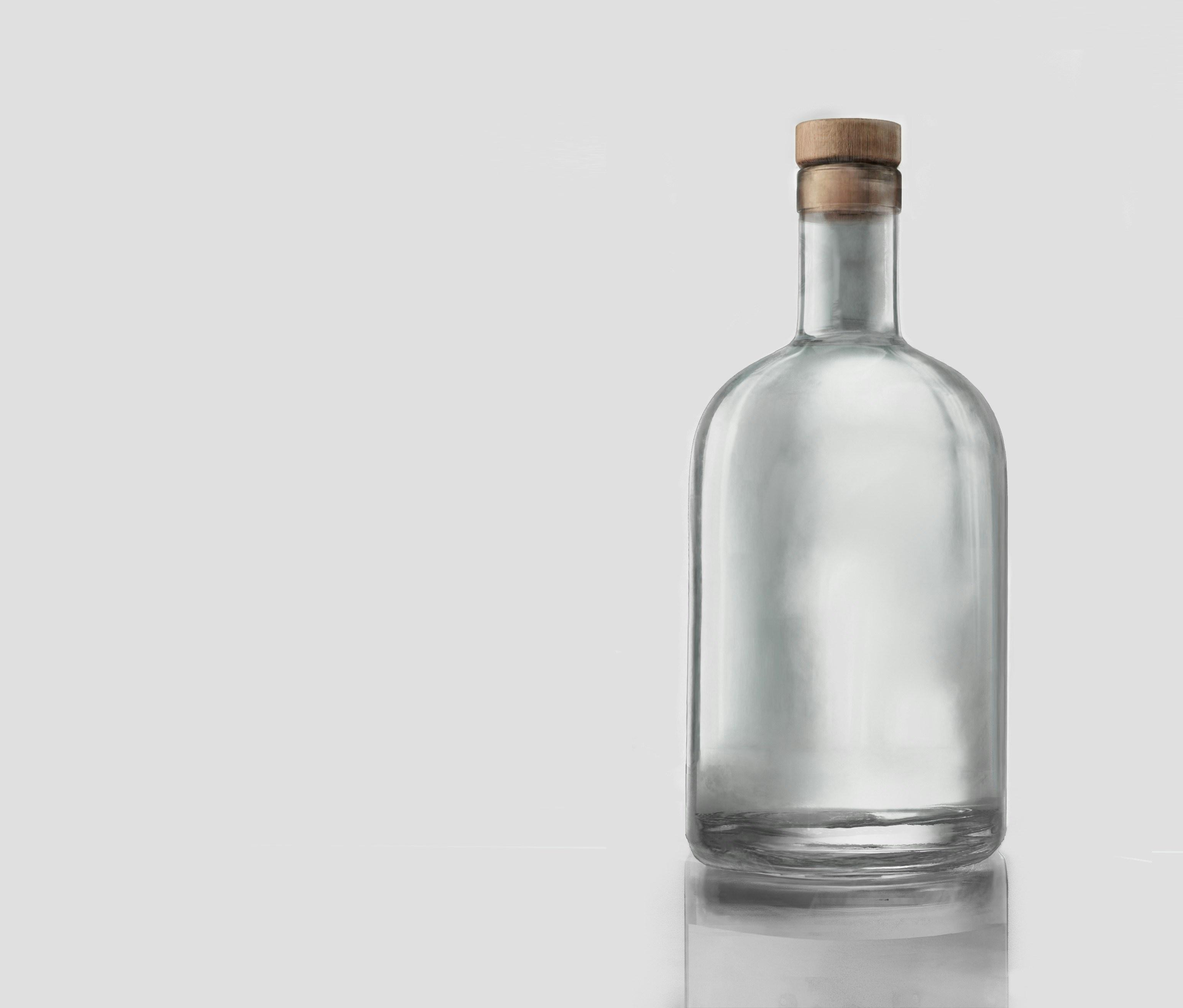Bottle-Detection: (634, 71, 1079, 937)
